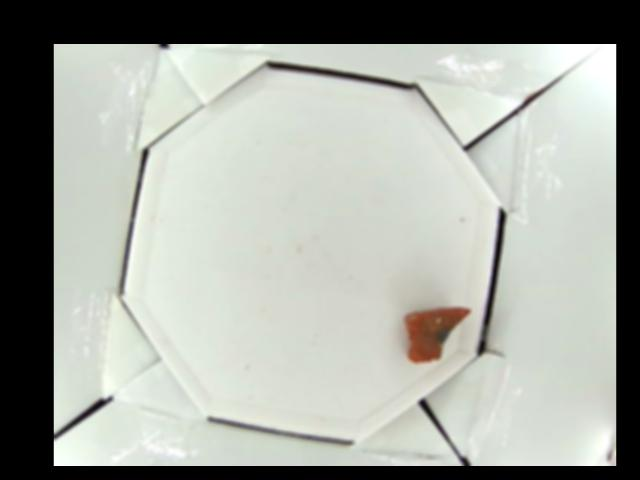Brisk: (404, 305, 474, 363)
